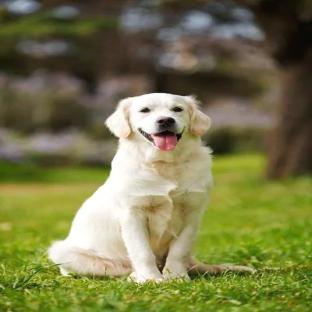Animal: (49, 93, 253, 282)
